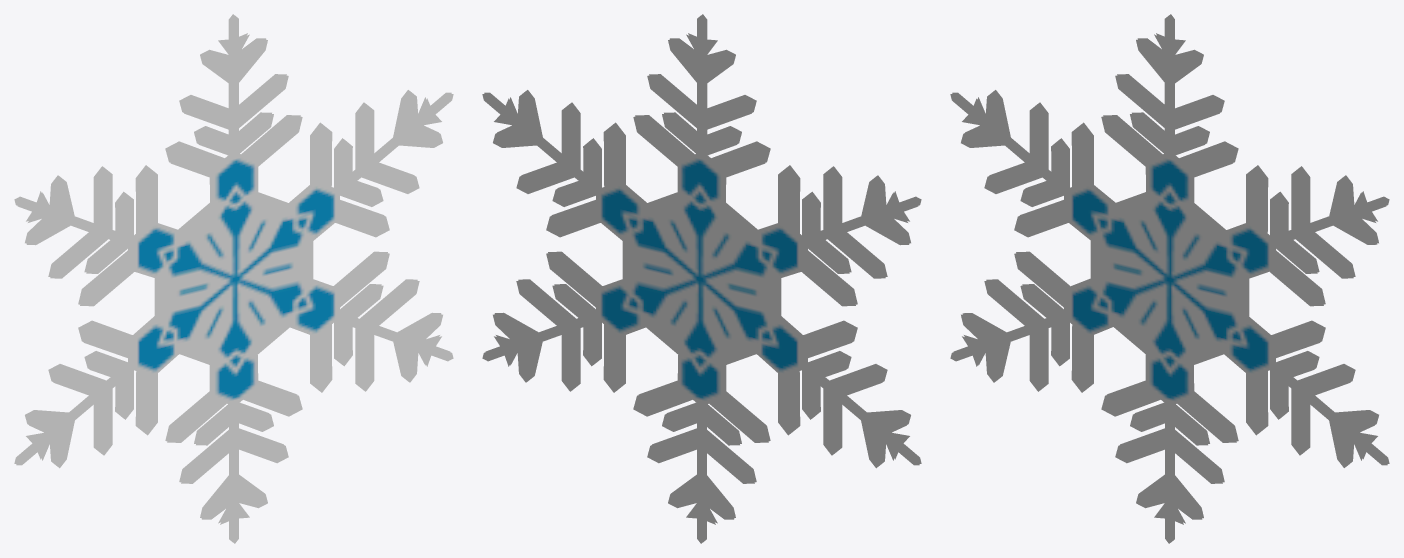
Rendered from SAVE.ICO.obj.
The picture shows the model from 3 angles, left to right: view 1: azimuth 30°, elevation 25°; view 2: azimuth 150°, elevation 25°; view 3: azimuth 330°, elevation 25°; orthographic projection.
Bounding box in the file's own units: 3.34 × 3.85 × 0.0249.
Materials: 1 (1 with a texture image).
